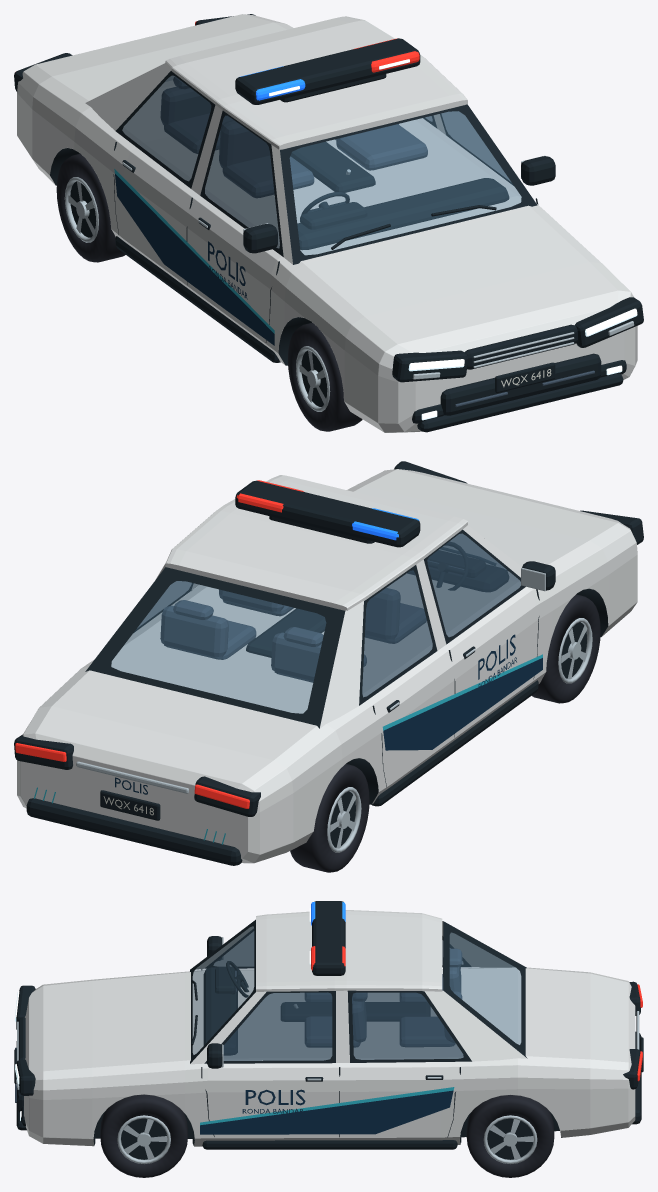
3 renders of one model, top to bottom at view 1: azimuth 30°, elevation 25°; view 2: azimuth 150°, elevation 25°; view 3: azimuth 270°, elevation 25°, orthographic. The views are drawn at different scales.
Visible parts, largest first — view 1: Ronda Bandar Patrol Sedan; view 2: Ronda Bandar Patrol Sedan; view 3: Ronda Bandar Patrol Sedan.
Part boxes in pixels (x1,y1,x2,y2): Ronda Bandar Patrol Sedan: (14, 14, 643, 432); Ronda Bandar Patrol Sedan: (14, 461, 643, 872); Ronda Bandar Patrol Sedan: (14, 901, 643, 1177).
Bounding box in the file's own units: 2.06 × 1.59 × 4.62.
